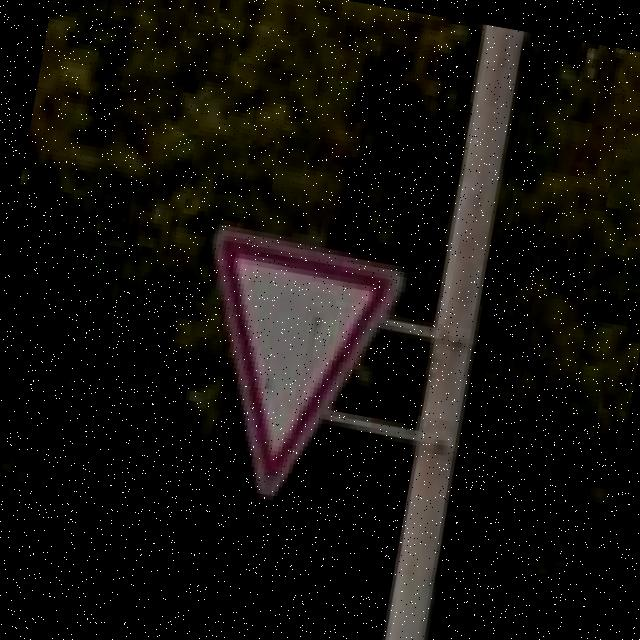Ustap pierwszenstwa: (170, 218, 411, 516)
